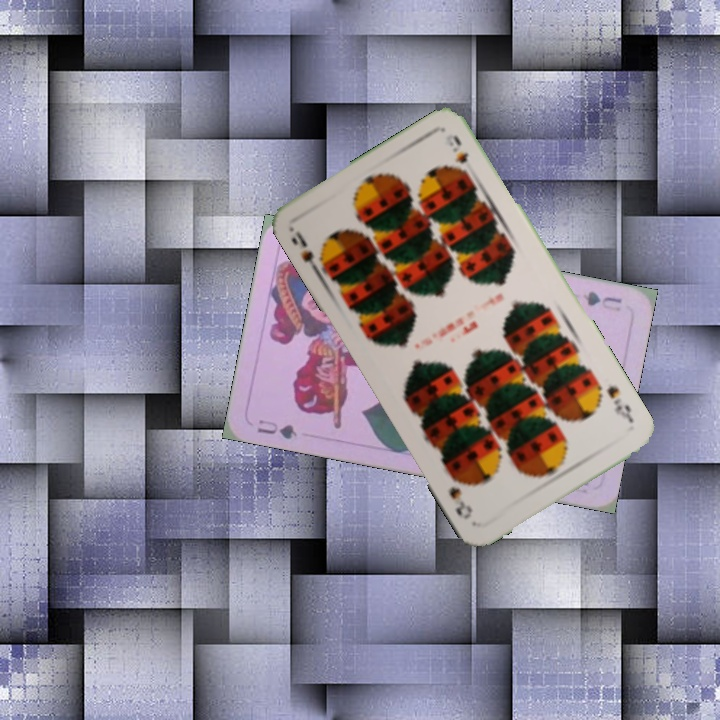GU: (253, 415, 300, 442), (579, 287, 624, 314)
S9: (286, 225, 330, 279), (602, 381, 636, 426)
